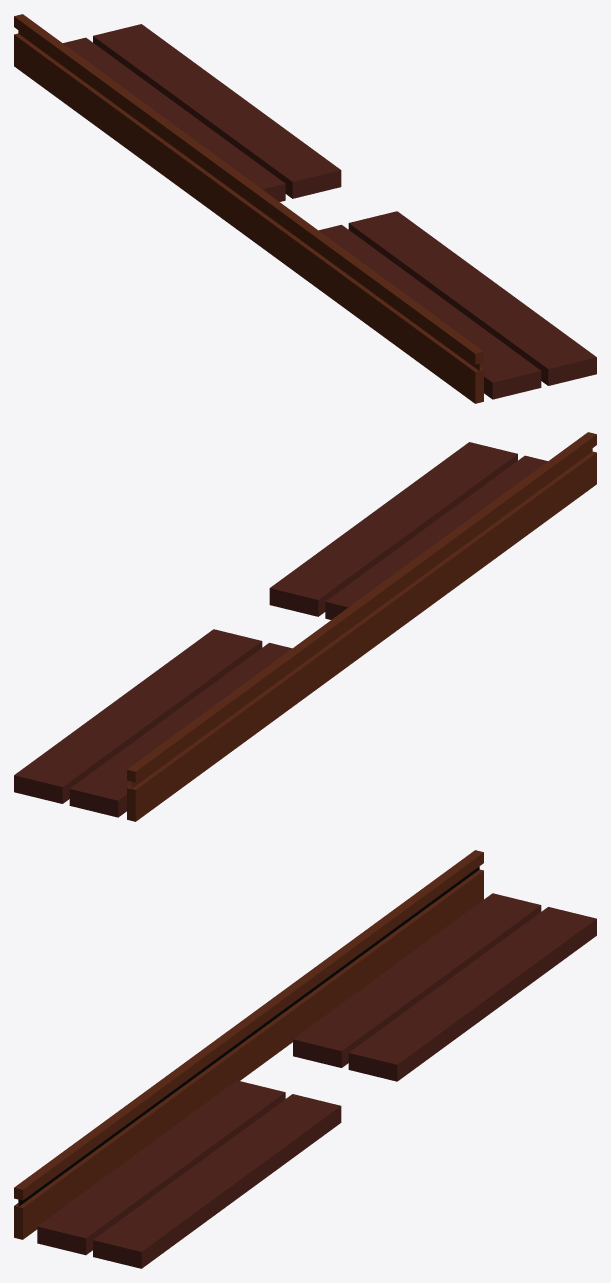
The model's file is TablaApuestasSimples.glb.
3 views of the same model, one above another, from view 1: azimuth 30°, elevation 25°; view 2: azimuth 150°, elevation 25°; view 3: azimuth 330°, elevation 25° (orthographic).
Visible parts, largest first — view 1: TablaApuestasSimples, TablaApuestasBorde; view 2: TablaApuestasSimples, TablaApuestasBorde; view 3: TablaApuestasSimples, TablaApuestasBorde.
Boxes of the visible parts, box(x1,y1,x2,y2) form: TablaApuestasSimples: box(63, 24, 596, 399); TablaApuestasBorde: box(14, 14, 483, 403); TablaApuestasSimples: box(14, 442, 547, 817); TablaApuestasBorde: box(127, 432, 596, 821); TablaApuestasSimples: box(37, 893, 596, 1268); TablaApuestasBorde: box(14, 850, 483, 1239).
Bounding box in the file's own units: 1.12 × 0.4552 × 7.19.
3 materials, 3 textured.
